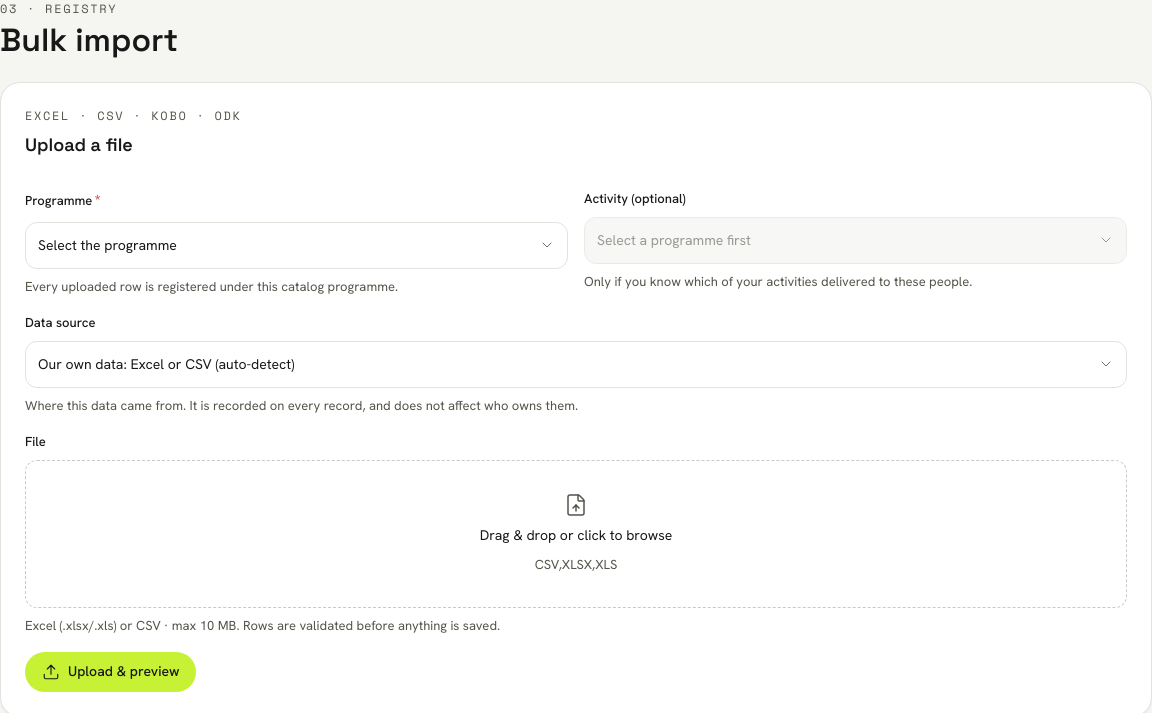
ImportListPage — the source-ingestion front door › refuses to upload without a file once a programme is chosen
Select "Cash Transfer" in the dropdown labelled "Programme": (296, 245) [25,222,568,269]
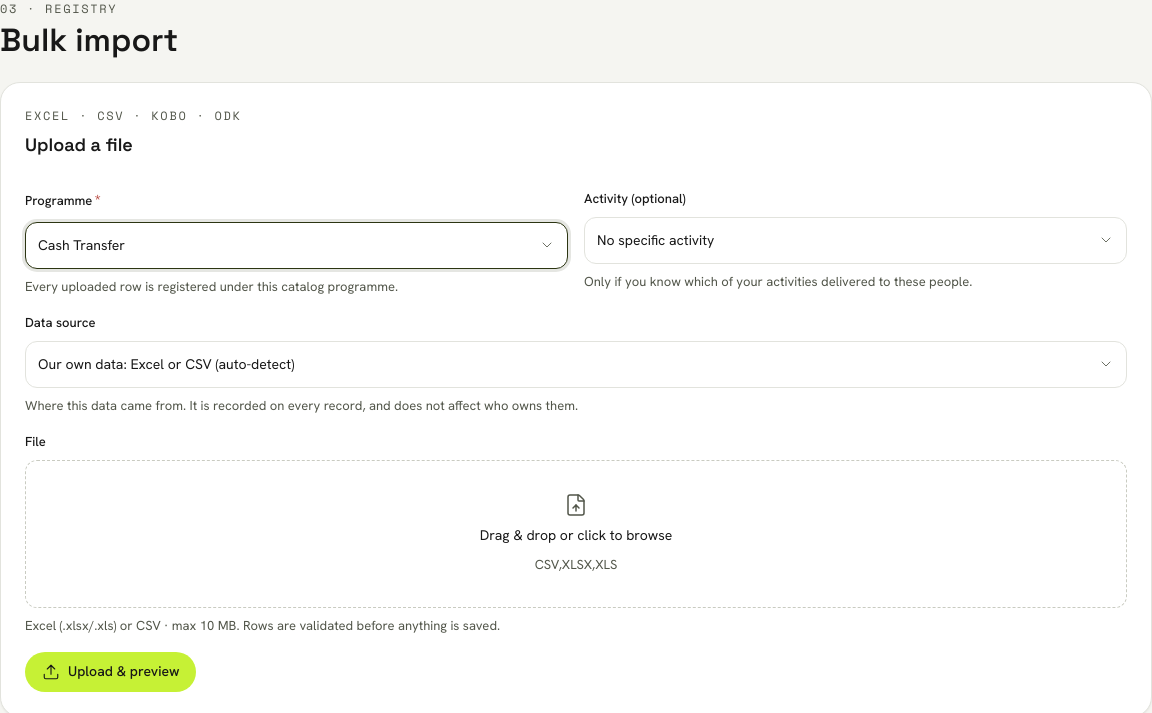
Click the button "Upload & preview": (111, 672) [25,652,196,692]
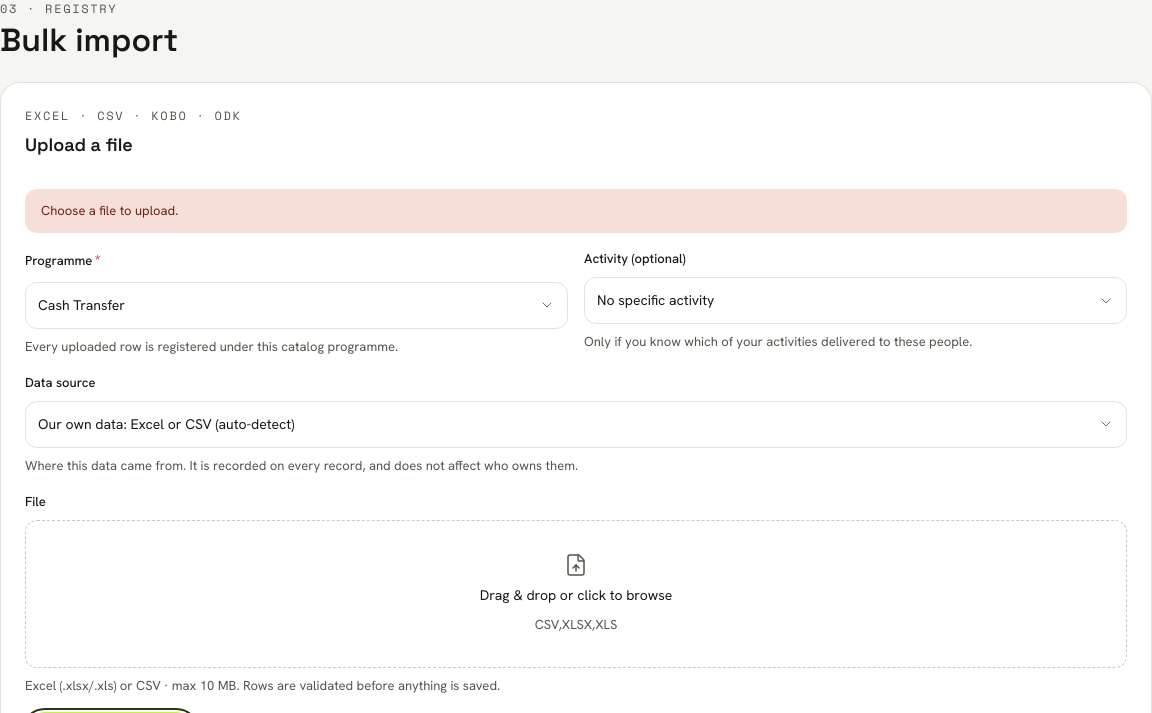
Check: the message shows "Choose a file", box [41,202,178,219]
